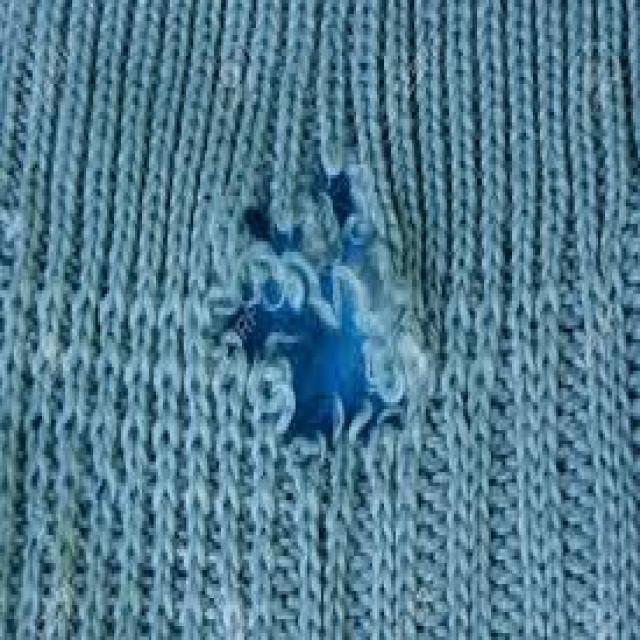other: (176, 102, 470, 505)
